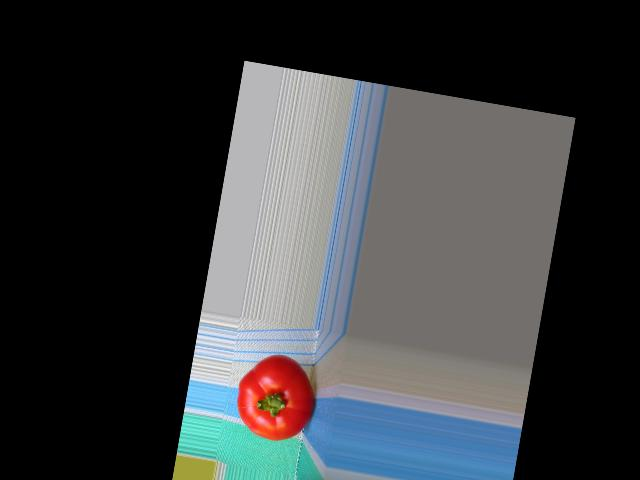tomato: (230, 349, 321, 446)
